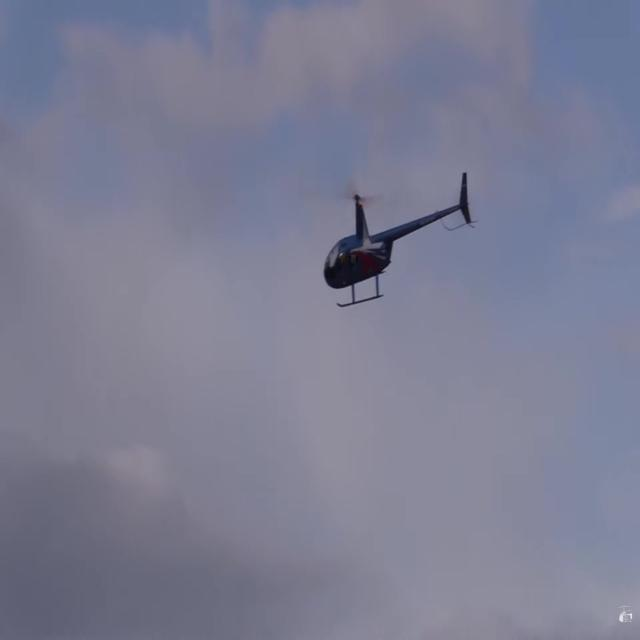CIV_HELO: (322, 168, 472, 310)
